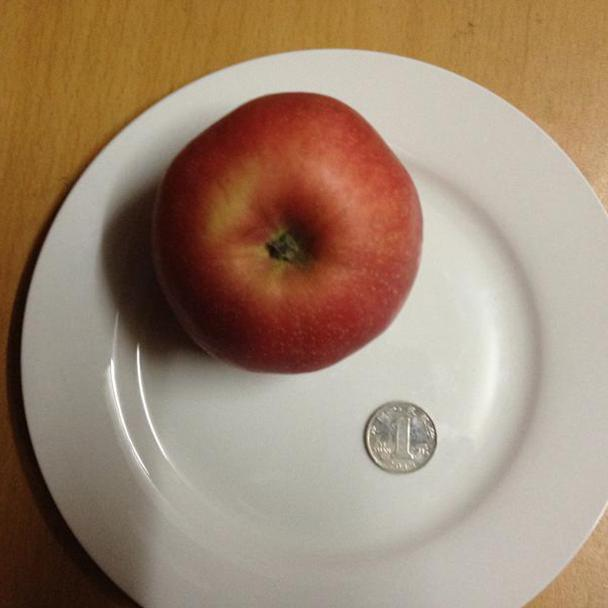apple: (151, 91, 424, 375)
